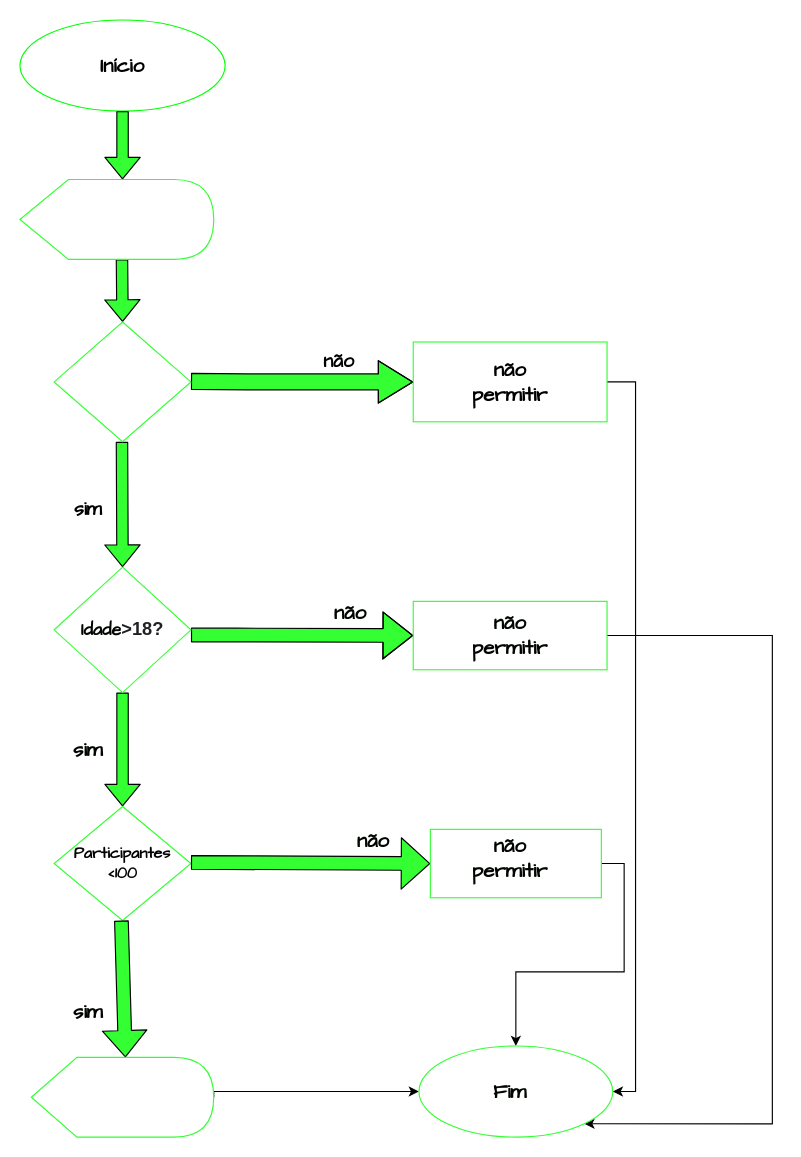
The diagram is 801 pixels wide and 1157 high, and some of its shapes have lost their labels. Each missing label, with the box of its shape:
Cadastro do evento: (19, 178, 214, 259)
Cadastro Finalizado: (30, 1056, 214, 1137)
Data do evento >Data atual: (53, 321, 191, 442)
